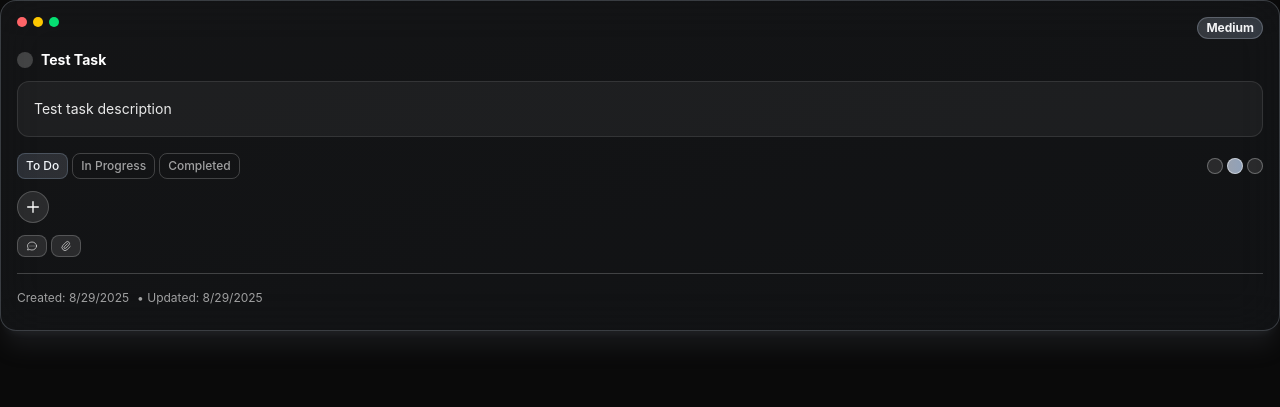
it: TaskCard Integration › should handle editing mode
Click the button titled "Edit Task".
click(38, 22)  # box [33,17,43,27]
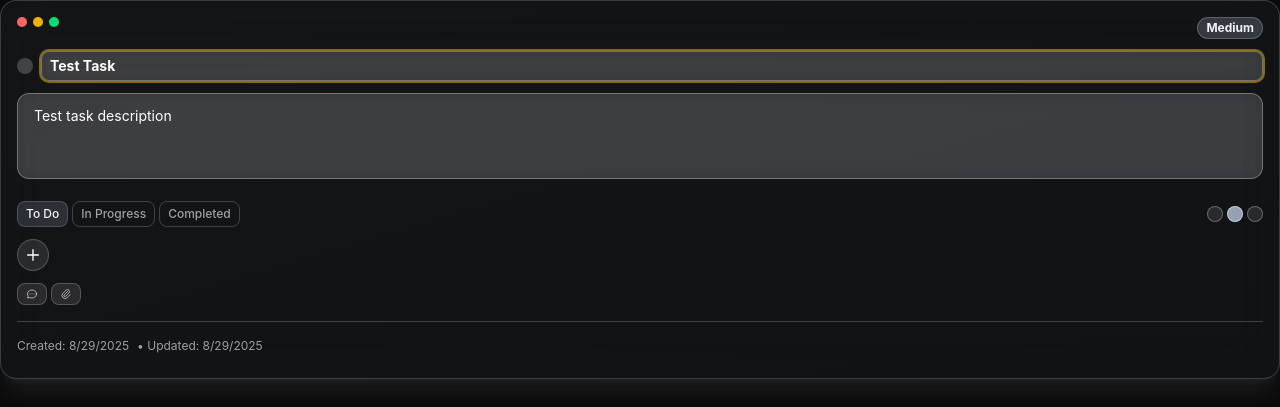
Expected: the field holds "Test Task", [41,51,1263,81]
